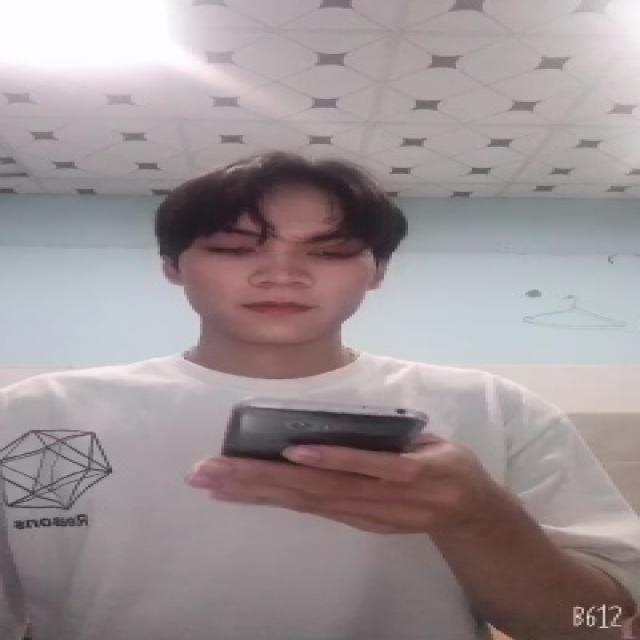Phone: (216, 397, 431, 463)
